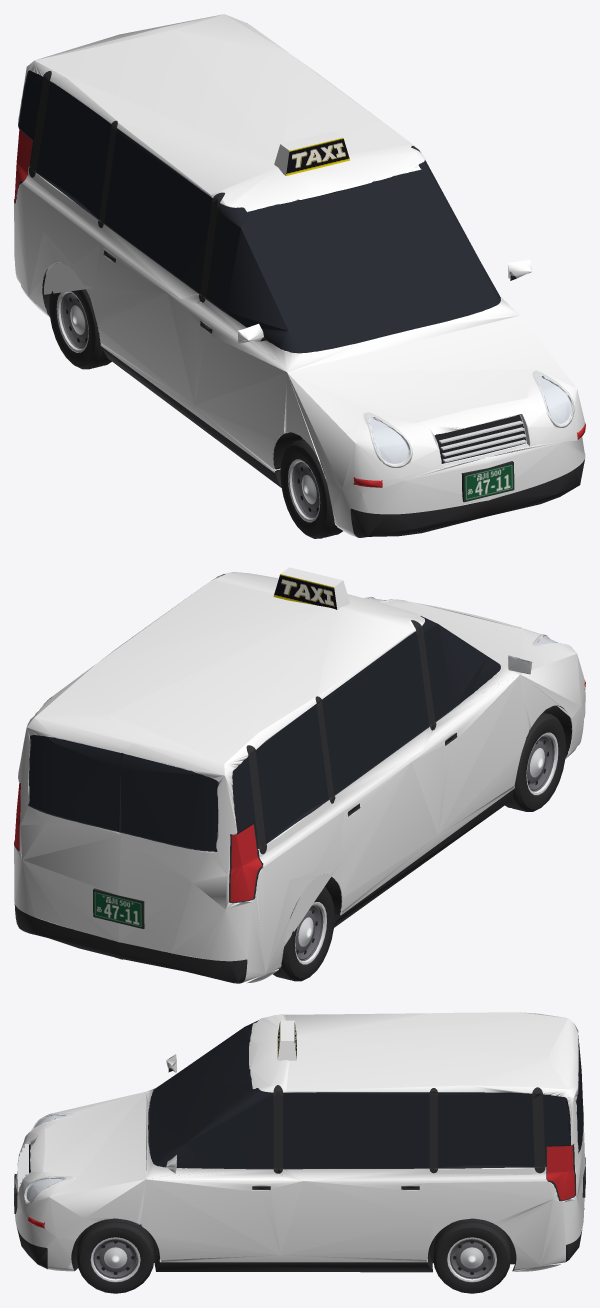
File: traffic_taxi.fbx
The picture shows the model from 3 angles, top to bottom: view 1: azimuth 30°, elevation 25°; view 2: azimuth 150°, elevation 25°; view 3: azimuth 270°, elevation 25°; orthographic projection. The views are drawn at different scales.
Parts seen in each view (by area): view 1: Body, Wheel_FR, Wheel_RR; view 2: Body, Wheel_FR, Wheel_RR; view 3: Body, Wheel_RL, Wheel_FL.
Part boxes in pixels (<box>): Body: <box>14,14,585,537</box>; Wheel_FR: <box>280,439,342,538</box>; Wheel_RR: <box>49,289,111,369</box>; Body: <box>14,567,585,983</box>; Wheel_FR: <box>505,712,566,811</box>; Wheel_RR: <box>273,887,334,981</box>; Body: <box>14,1012,585,1272</box>; Wheel_RL: <box>433,1218,510,1293</box>; Wheel_FL: <box>76,1218,154,1293</box>.
Bounding box in the file's own units: 2.01 × 1.87 × 4.41.
12 materials, 2 textured.
